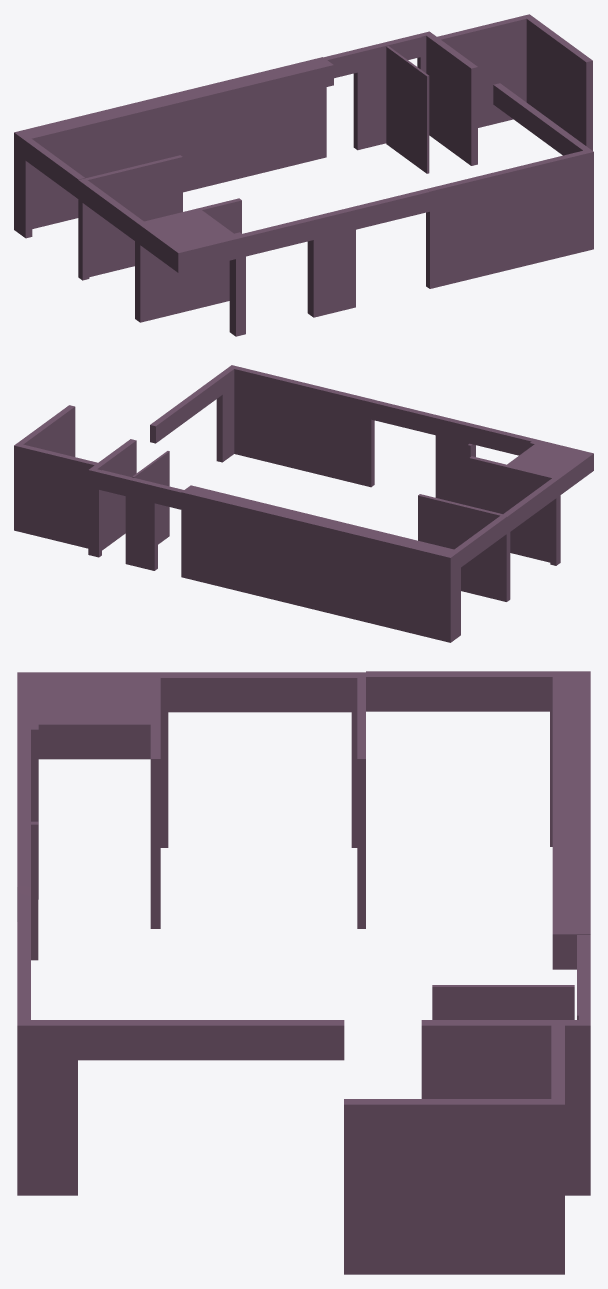
The model's file is MainWall_low.fbx.
The picture shows the model from 3 angles, top to bottom: view 1: azimuth 30°, elevation 25°; view 2: azimuth 150°, elevation 25°; view 3: azimuth 270°, elevation 25°; orthographic projection. The views are drawn at different scales.
Parts seen in each view (by area): view 1: Wall5, Wall2, Wall3, Wall0, Wall6, Wall1, Wall4, Rectangle020, Wall7; view 2: Wall5, Wall2, Wall3, Wall0, Wall6, Wall1, Wall4, Rectangle020; view 3: Wall3, Wall2, Wall5, Wall0, Wall6, Rectangle020, Wall1, Wall4, Wall7.
Part boxes in pixels (x1,y1,x2,y2): Wall5: (14, 57, 333, 238); Wall2: (426, 83, 593, 288); Wall3: (417, 14, 592, 165); Wall0: (135, 198, 241, 322); Wall6: (78, 155, 182, 280); Wall1: (242, 189, 430, 317); Wall4: (324, 34, 421, 150); Rectangle020: (386, 46, 429, 173); Wall7: (229, 232, 245, 336); Wall5: (181, 485, 506, 642); Wall2: (150, 365, 374, 487); Wall3: (14, 405, 136, 557); Wall0: (469, 440, 593, 565); Wall6: (418, 479, 556, 601); Wall1: (370, 400, 534, 505); Wall4: (98, 470, 183, 570); Rectangle020: (132, 451, 169, 544); Wall3: (344, 1015, 590, 1274); Wall2: (17, 886, 344, 1195); Wall5: (366, 671, 590, 969); Wall0: (17, 672, 168, 928); Wall6: (168, 672, 365, 928); Rectangle020: (432, 985, 574, 1019); Wall1: (17, 729, 38, 960); Wall4: (577, 935, 590, 1019); Wall7: (17, 721, 38, 899).
Bounding box in the file's own units: 752 × 138 × 421.
